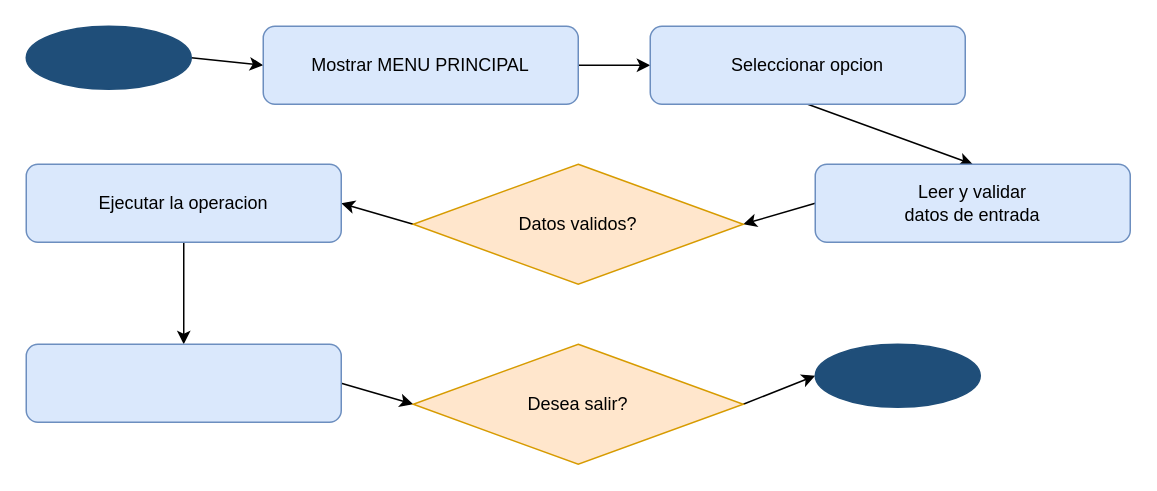
This 1157x491 diagram has some shape labels left out. Here are the shapes that lost their labels. From the top down, the centre of each, then its label:
At (108,57): "INICIO".
At (183,382): "Mostrar resultado o error".
At (897,375): "FIN".
